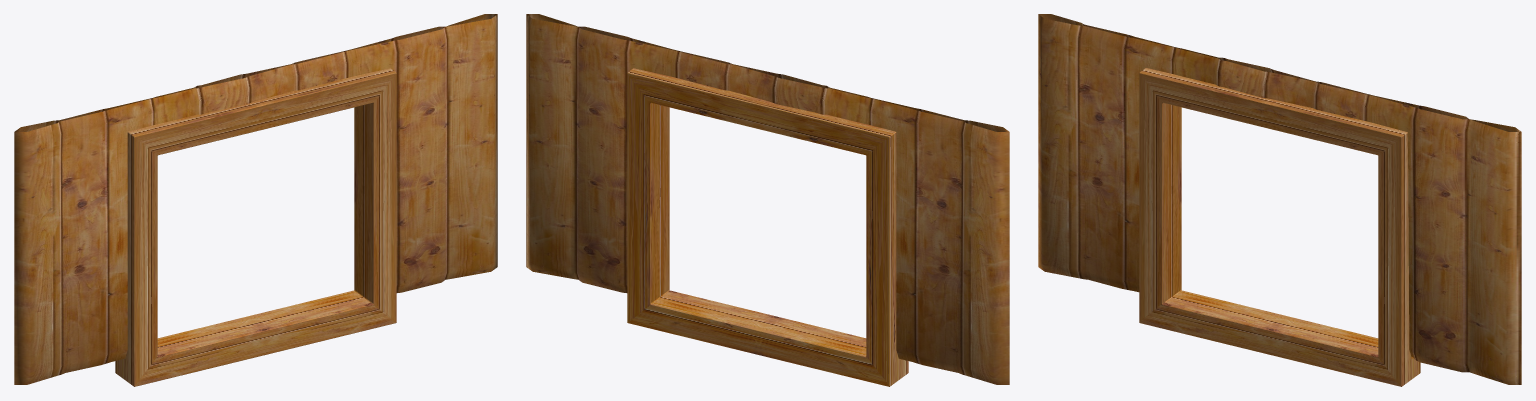
Rendered from DoubleDoorWall.fbx.
The picture shows the model from 3 angles, left to right: view 1: azimuth 30°, elevation 25°; view 2: azimuth 150°, elevation 25°; view 3: azimuth 330°, elevation 25°; orthographic projection.
Visible parts, largest first — view 1: WoodWallDoubleDoor_LOD0; view 2: WoodWallDoubleDoor_LOD0; view 3: WoodWallDoubleDoor_LOD0.
Boxes of the visible parts, x1,y1,x2,y2 form: WoodWallDoubleDoor_LOD0: [14, 14, 497, 386]; WoodWallDoubleDoor_LOD0: [526, 14, 1009, 386]; WoodWallDoubleDoor_LOD0: [1038, 14, 1521, 386].
Size of what is drawn, in the model's own units: 5 by 2.72 by 0.3451.
